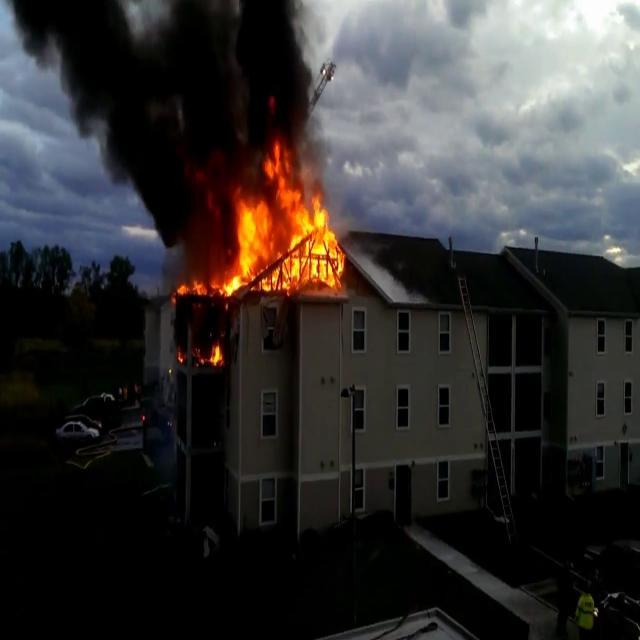Fire: (222, 142, 346, 294), (174, 273, 216, 301), (207, 338, 224, 369)
Smoke: (6, 0, 332, 233)
